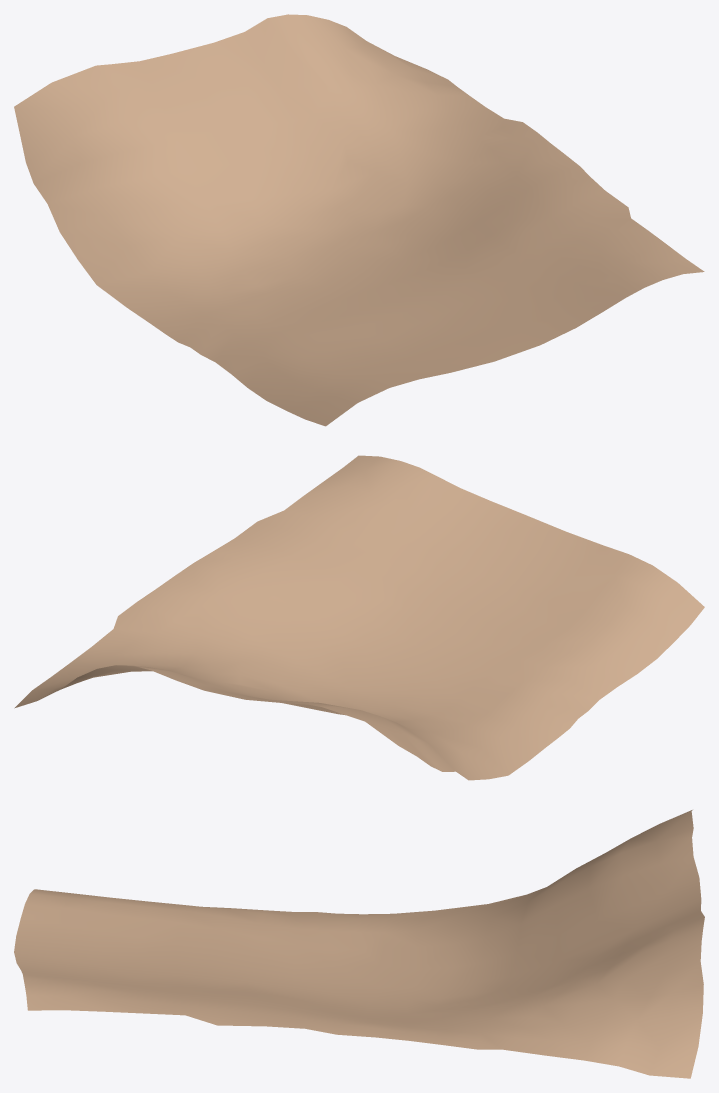
3 renders of one model, top to bottom at view 1: azimuth 30°, elevation 25°; view 2: azimuth 150°, elevation 25°; view 3: azimuth 270°, elevation 25°, orthographic. The views are drawn at different scales.
Visible parts, largest first — view 1: 右侧腘筋膜; view 2: 右侧腘筋膜; view 3: 右侧腘筋膜.
Boxes of the visible parts, x1,y1,x2,y2 form: 右侧腘筋膜: [14, 14, 704, 426]; 右侧腘筋膜: [14, 455, 704, 780]; 右侧腘筋膜: [14, 810, 704, 1078].
Bounding box in the file's own units: 0.1053 × 0.03 × 0.1426.
